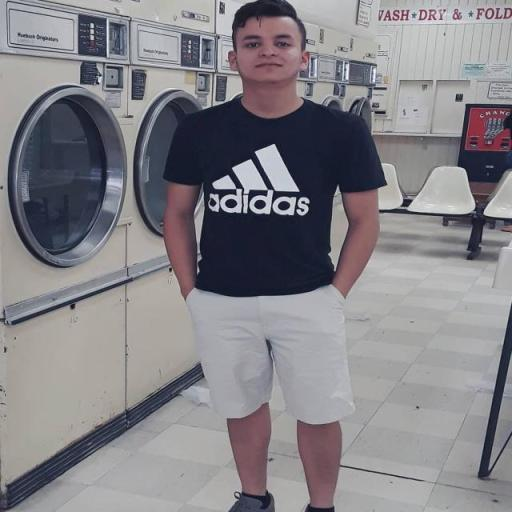Adidas: (206, 142, 312, 216)
